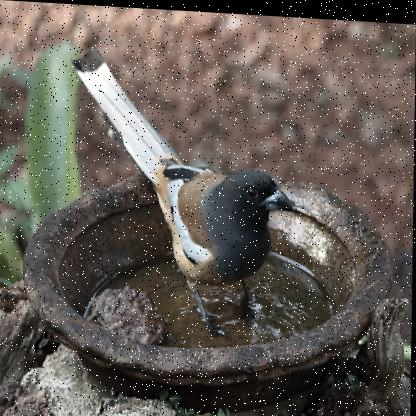Burung: (69, 44, 298, 336)
